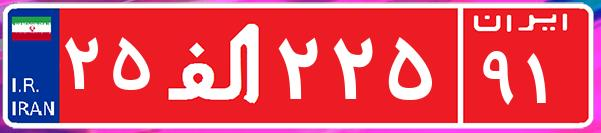1: (525, 38, 570, 115)
2: (273, 28, 330, 110), (330, 28, 385, 110), (57, 26, 110, 107)
5: (385, 28, 445, 110), (110, 28, 158, 105)
9: (475, 38, 525, 113)
الف: (158, 15, 273, 115)
